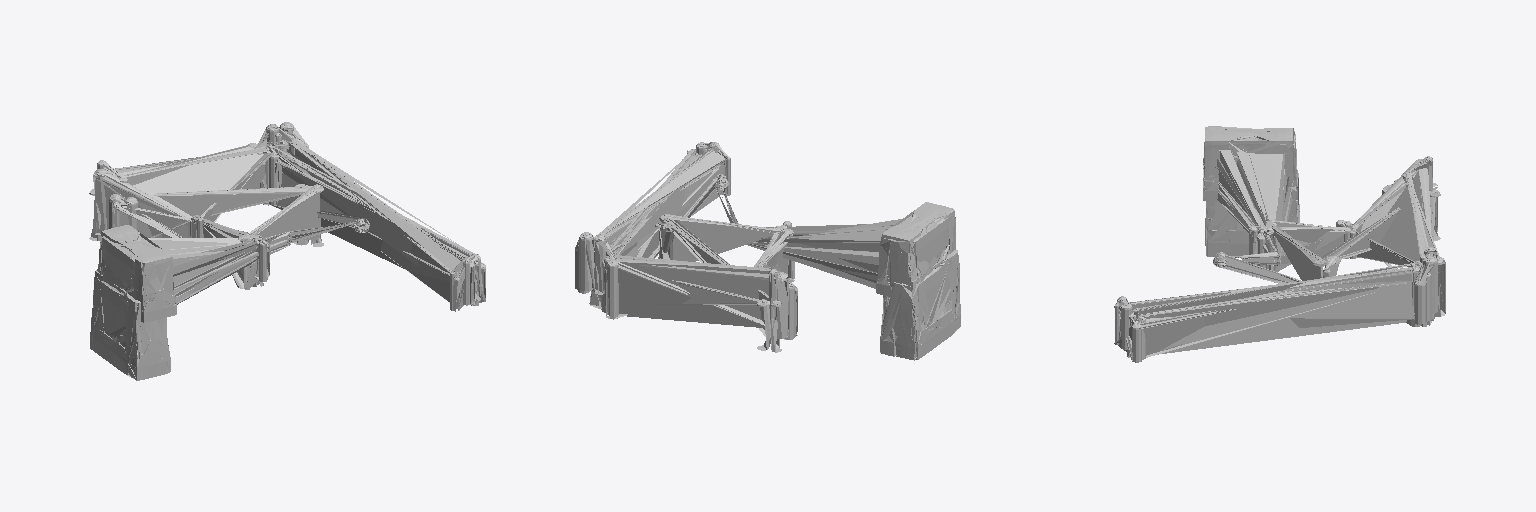
The model's file is cellSlimulationReef_Roundabout_Proxy-sharedassets3.assets-680.obj.
3 views of the same model, side by side, from view 1: azimuth 30°, elevation 25°; view 2: azimuth 150°, elevation 25°; view 3: azimuth 270°, elevation 25° (orthographic).
Visible parts, largest first — view 1: cellSlimulationReef_Roundabout_Proxy_3, cellSlimulationReef_Roundabout_Proxy_4, cellSlimulationReef_Roundabout_Proxy_1, cellSlimulationReef_Roundabout_Proxy_8, cellSlimulationReef_Roundabout_Proxy_2, cellSlimulationReef_Roundabout_Proxy_0; view 2: cellSlimulationReef_Roundabout_Proxy_3, cellSlimulationReef_Roundabout_Proxy_4, cellSlimulationReef_Roundabout_Proxy_8, cellSlimulationReef_Roundabout_Proxy_1, cellSlimulationReef_Roundabout_Proxy_2, cellSlimulationReef_Roundabout_Proxy_0, cellSlimulationReef_Roundabout_Proxy_6; view 3: cellSlimulationReef_Roundabout_Proxy_3, cellSlimulationReef_Roundabout_Proxy_4, cellSlimulationReef_Roundabout_Proxy_1, cellSlimulationReef_Roundabout_Proxy_8, cellSlimulationReef_Roundabout_Proxy_2.
Boxes of the visible parts, box(x1,y1,x2,y2) form: cellSlimulationReef_Roundabout_Proxy_3: box(89, 122, 485, 377); cellSlimulationReef_Roundabout_Proxy_4: box(91, 122, 485, 376); cellSlimulationReef_Roundabout_Proxy_1: box(90, 222, 354, 380); cellSlimulationReef_Roundabout_Proxy_8: box(94, 225, 175, 380); cellSlimulationReef_Roundabout_Proxy_2: box(94, 152, 483, 377); cellSlimulationReef_Roundabout_Proxy_0: box(90, 271, 170, 376); cellSlimulationReef_Roundabout_Proxy_3: box(575, 142, 960, 356); cellSlimulationReef_Roundabout_Proxy_4: box(575, 142, 959, 359); cellSlimulationReef_Roundabout_Proxy_8: box(876, 202, 960, 359); cellSlimulationReef_Roundabout_Proxy_1: box(723, 189, 960, 359); cellSlimulationReef_Roundabout_Proxy_2: box(696, 153, 958, 360); cellSlimulationReef_Roundabout_Proxy_0: box(880, 250, 958, 359); cellSlimulationReef_Roundabout_Proxy_6: box(880, 275, 925, 359); cellSlimulationReef_Roundabout_Proxy_3: box(1115, 126, 1444, 361); cellSlimulationReef_Roundabout_Proxy_4: box(1114, 127, 1445, 362); cellSlimulationReef_Roundabout_Proxy_1: box(1203, 128, 1297, 263); cellSlimulationReef_Roundabout_Proxy_8: box(1205, 126, 1297, 256); cellSlimulationReef_Roundabout_Proxy_2: box(1128, 127, 1297, 322).
Bounding box in the file's own units: 93.32 × 34.07 × 84.56.